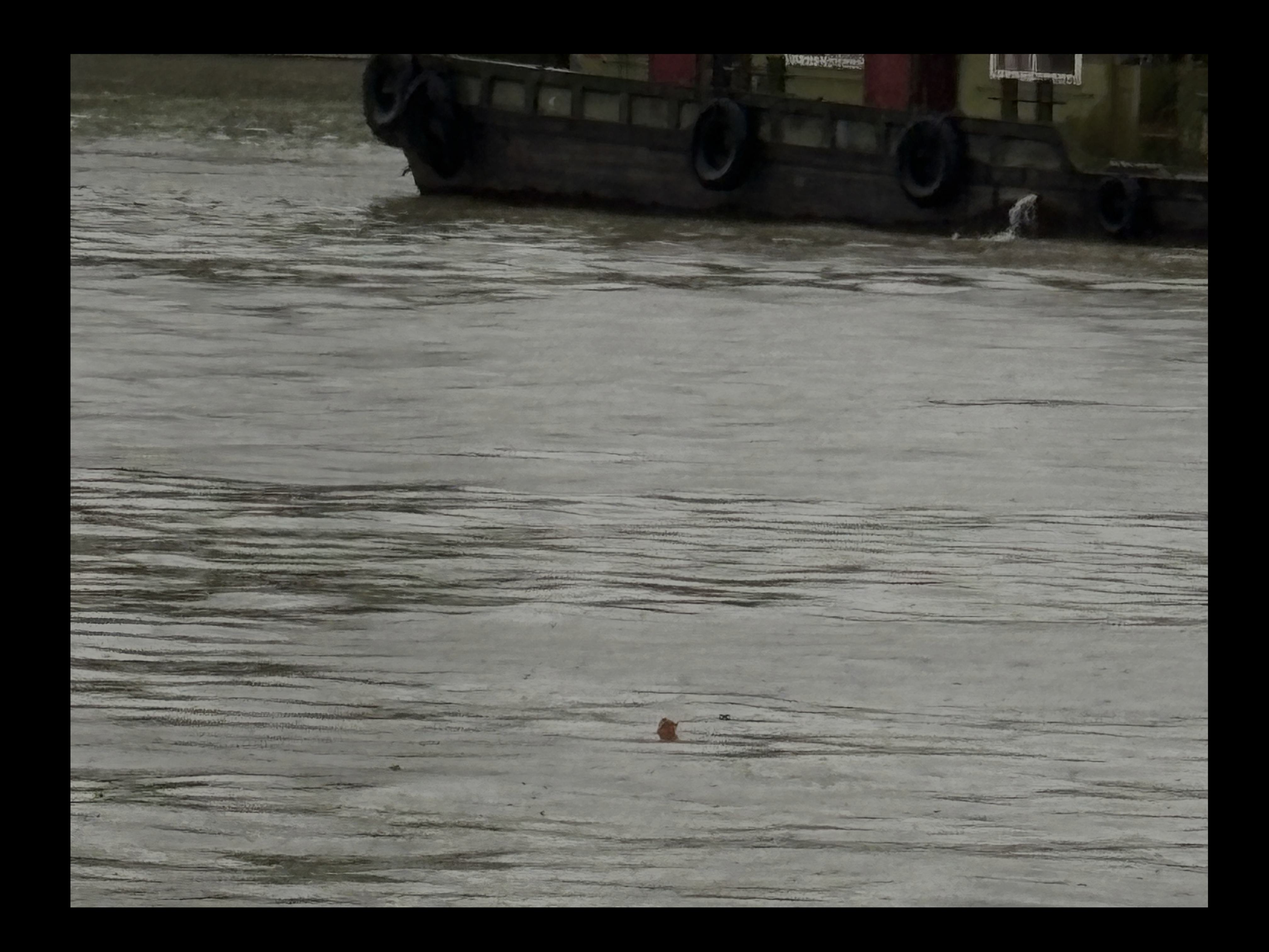Plastic wastes: (653, 715, 683, 741)
